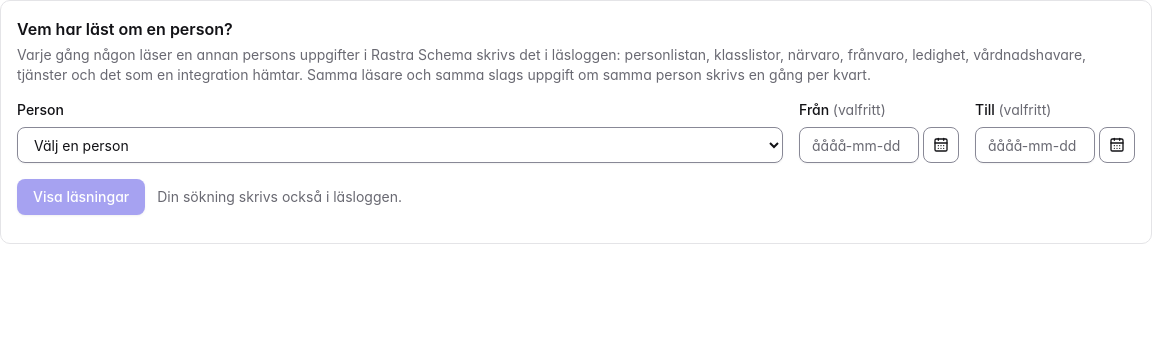
Test: Vem har läst om en person? › says when the log is gallrat before the period asked, rather than letting a short answer read as nobody
This screenshot has width=1152, height=337.
Select "Ek, Ada" in the dropdown labelled "Person". click: (400, 145)
box: [17,127,783,163]
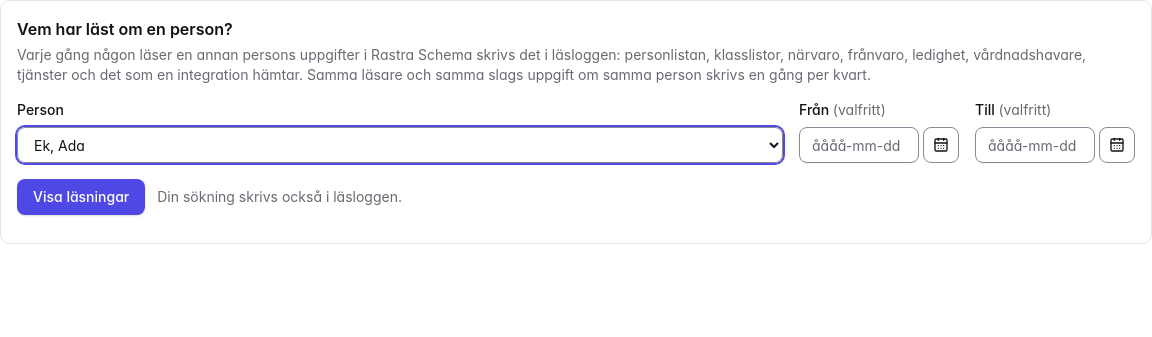
Click the button "Visa läsningar". click: click(81, 197)
box: [17,179,145,215]
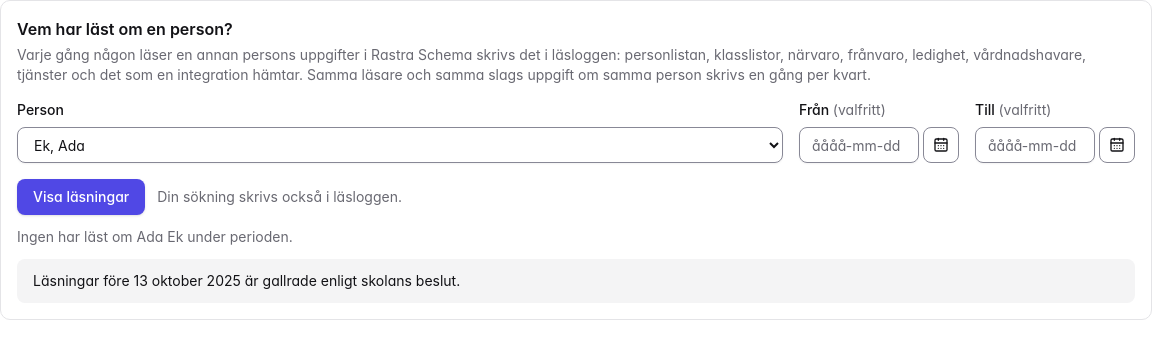
Expected: the text "Läsningar före 13 oktober 2025 är gallrade enligt skolans beslut." is shown, [33,272,460,289]
Expected: the text "Ingen har läst om Ada Ek under perioden." is shown, [17,228,293,245]
